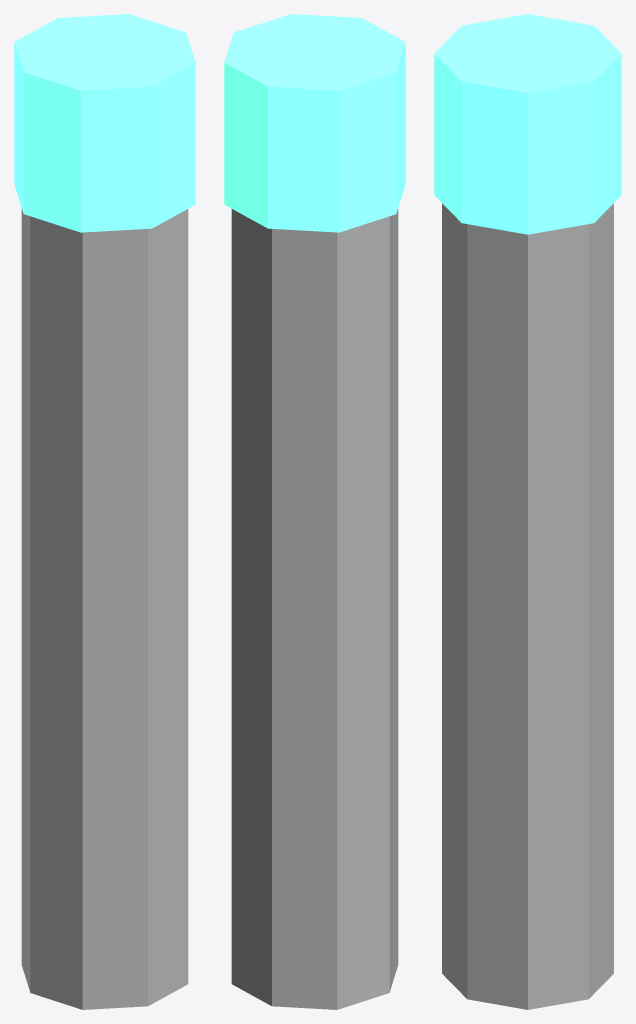
The model's file is item_F2_Medpen.glb.
3 views of the same model, side by side, from view 1: azimuth 30°, elevation 25°; view 2: azimuth 150°, elevation 25°; view 3: azimuth 270°, elevation 25° (orthographic).
Visible parts, largest first — view 1: Item_F2_Medpen; view 2: Item_F2_Medpen; view 3: Item_F2_Medpen.
Part boxes in pixels (bbox=[...]): Item_F2_Medpen: bbox=[14, 14, 195, 1009]; Item_F2_Medpen: bbox=[224, 14, 405, 1009]; Item_F2_Medpen: bbox=[434, 14, 621, 1009].
Bounding box in the file's own units: 0.024 × 0.13 × 0.024.
